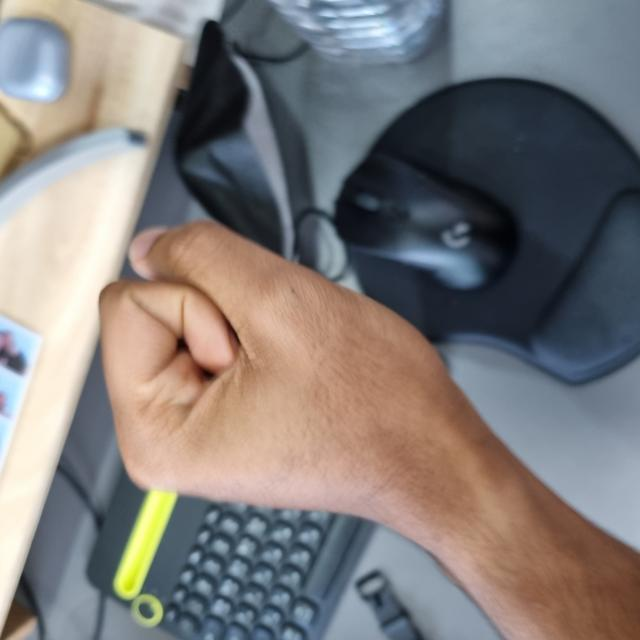Rock: (115, 101, 419, 457)
